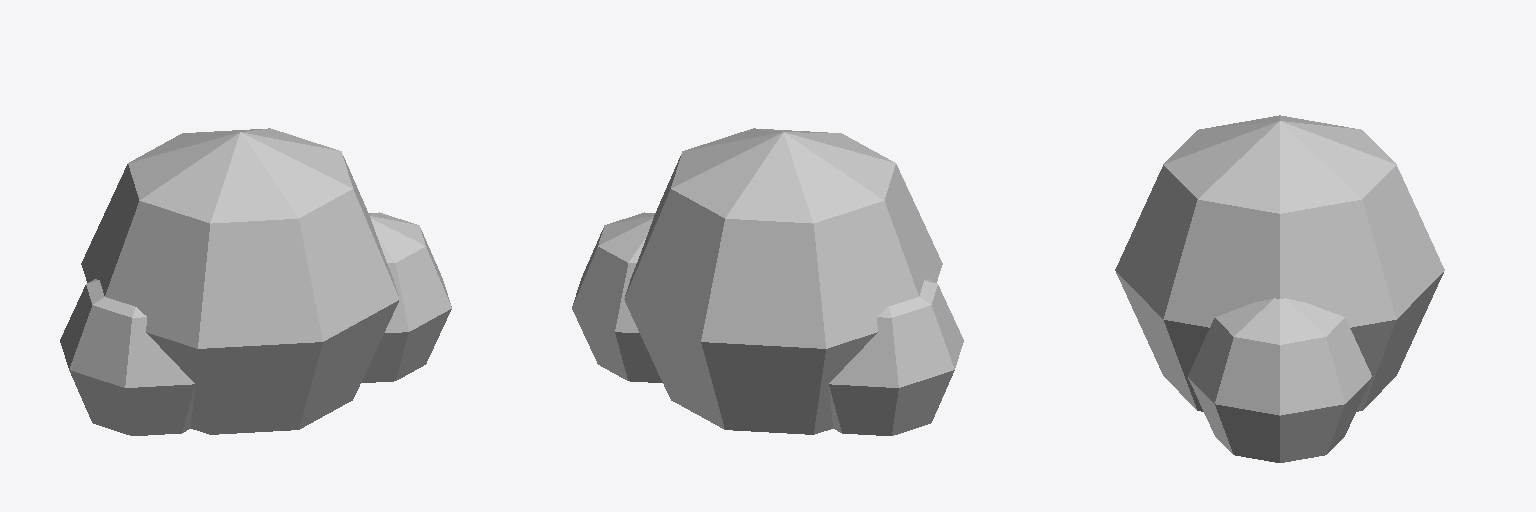
The model's file is water_cycle_cloud_small.obj.
3 views of the same model, side by side, from view 1: azimuth 30°, elevation 25°; view 2: azimuth 150°, elevation 25°; view 3: azimuth 270°, elevation 25° (orthographic).
Visible parts, largest first — view 1: cloud_B002; view 2: cloud_B002; view 3: cloud_B002.
Part boxes in pixels (left/top/right/bottom): cloud_B002: left=60, top=128, right=451, bottom=435; cloud_B002: left=572, top=128, right=963, bottom=435; cloud_B002: left=1115, top=115, right=1444, bottom=462.
Bounding box in the file's own units: 3.06 × 2 × 2.34.